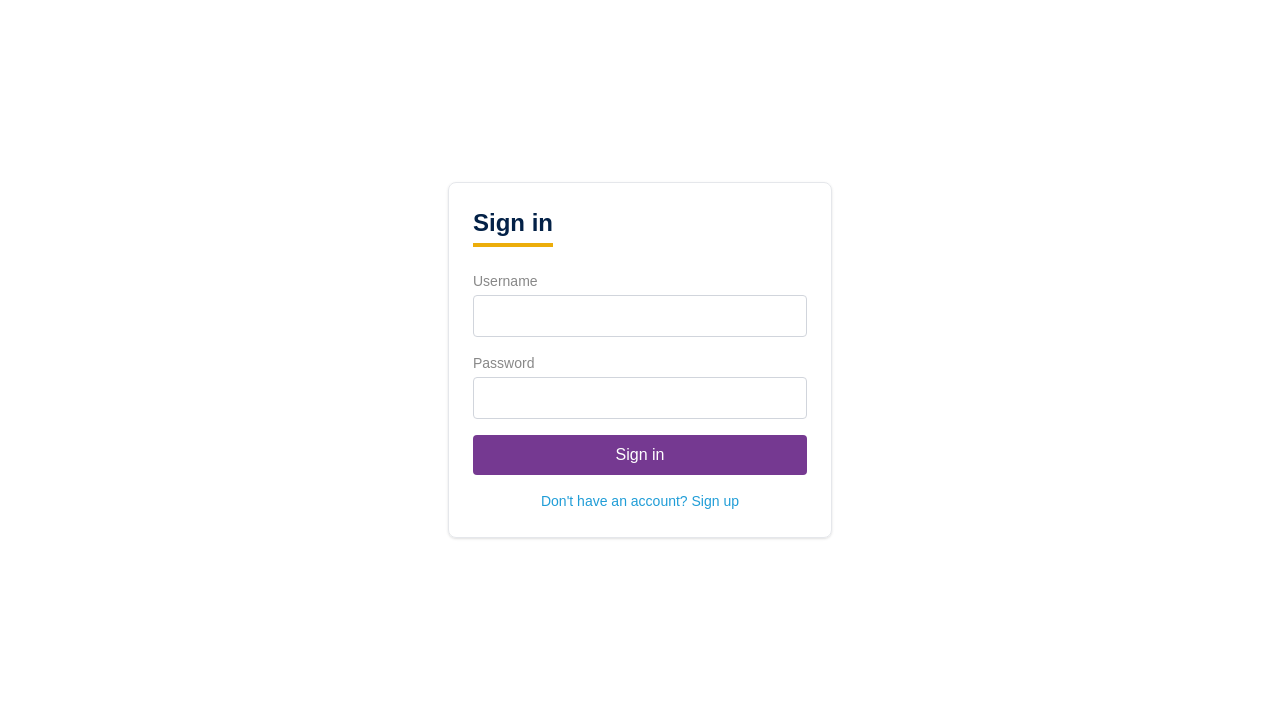
it: App › shows the login form, then the board after a successful login
Expected: the heading "Sign in" is shown, [473,207,553,247]
Type "user" into the field labelled "Username" at x=640, y=316, box [473,295,807,337]
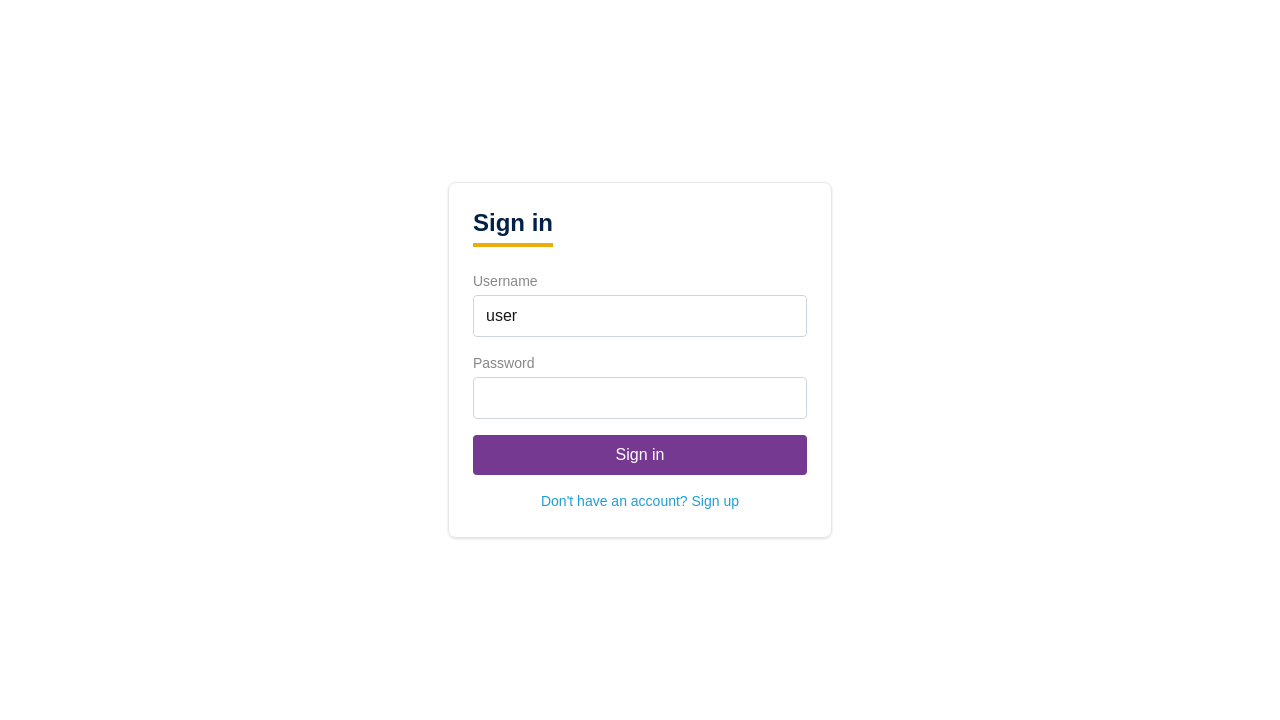
Type "password" into the password field labelled "Password" at x=640, y=398, box [473,377,807,419]
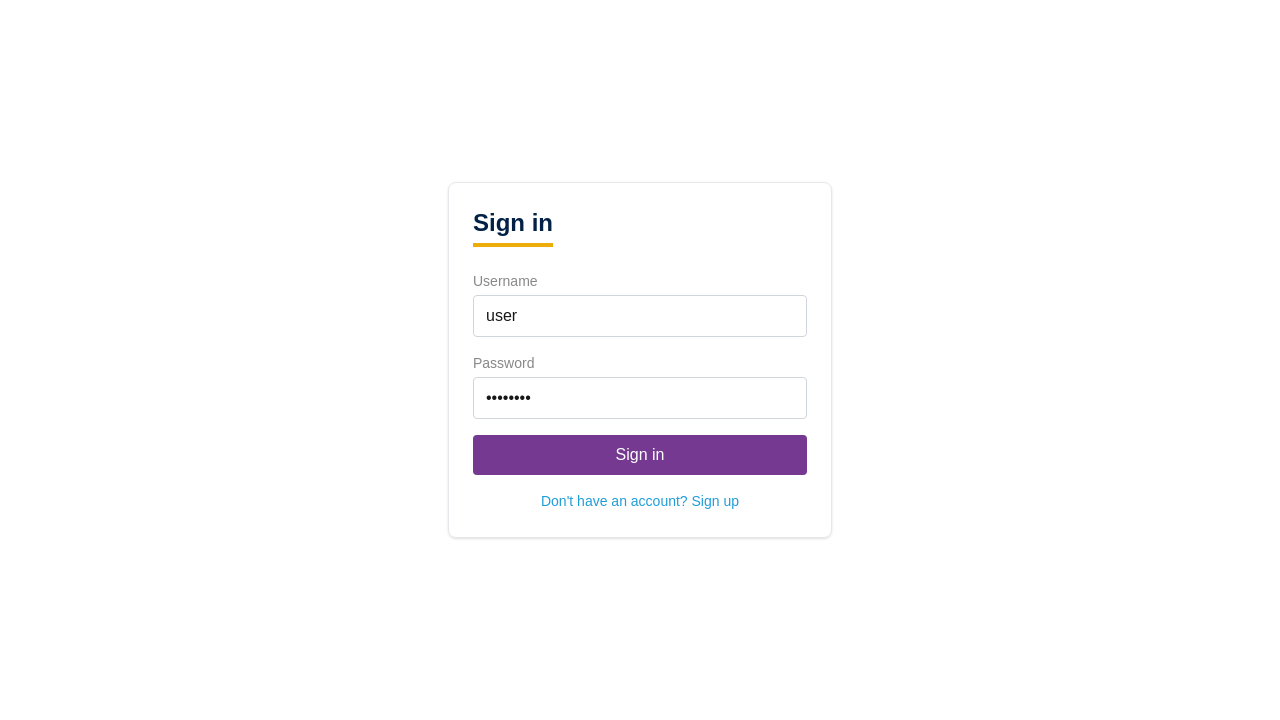
Click the button "Sign in" at x=640, y=455, box [473,435,807,475]
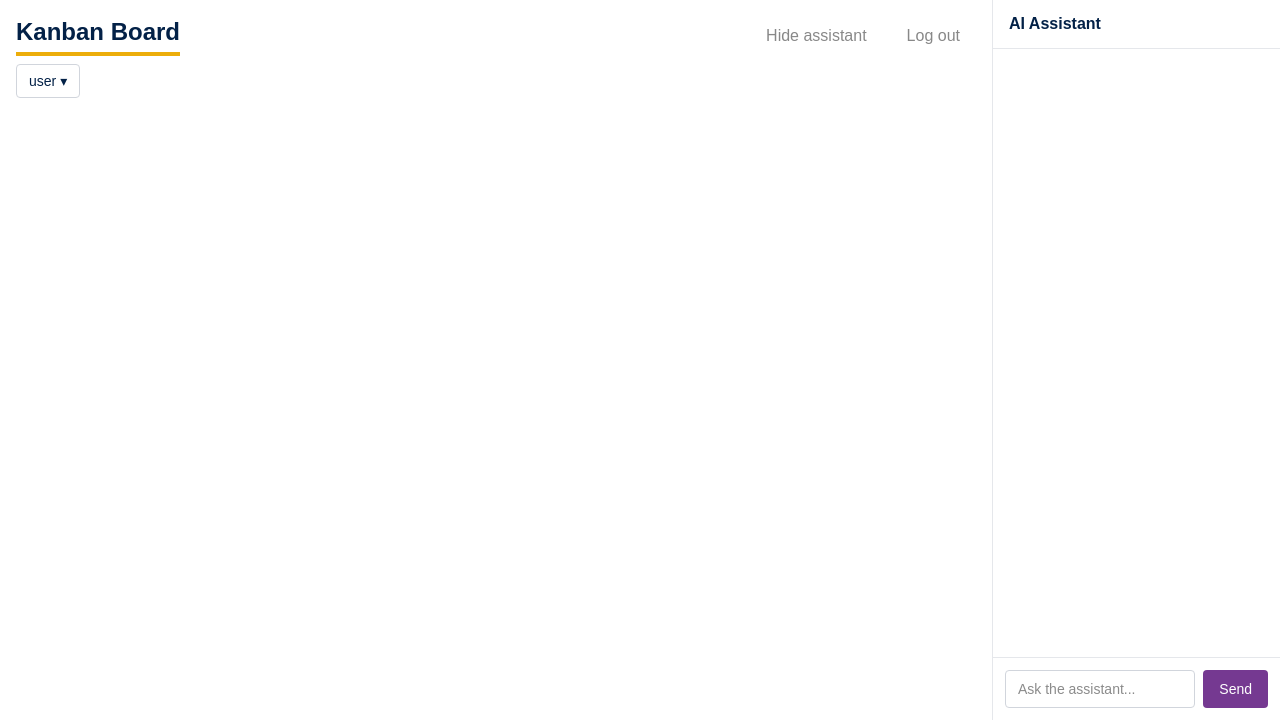
Expected: the heading "Kanban Board" is shown, [16,16,180,56]
